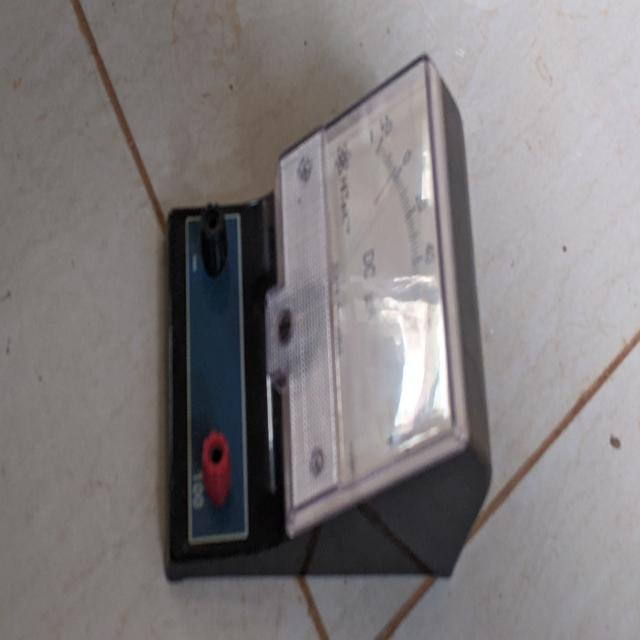Ammeter Analog: (154, 46, 496, 602)
